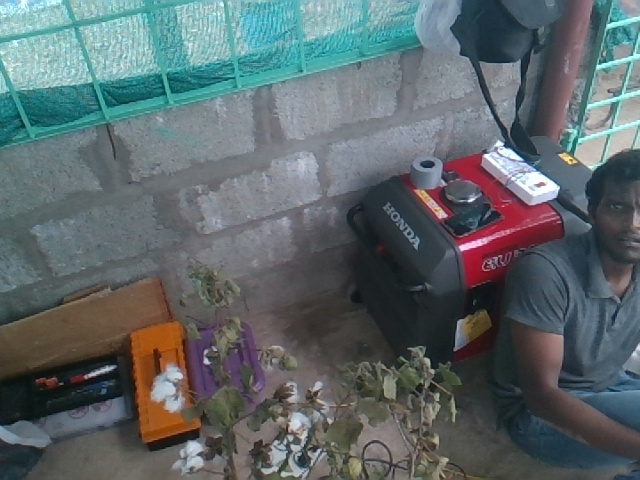cotton: (153, 367, 183, 413), (174, 440, 202, 473)
